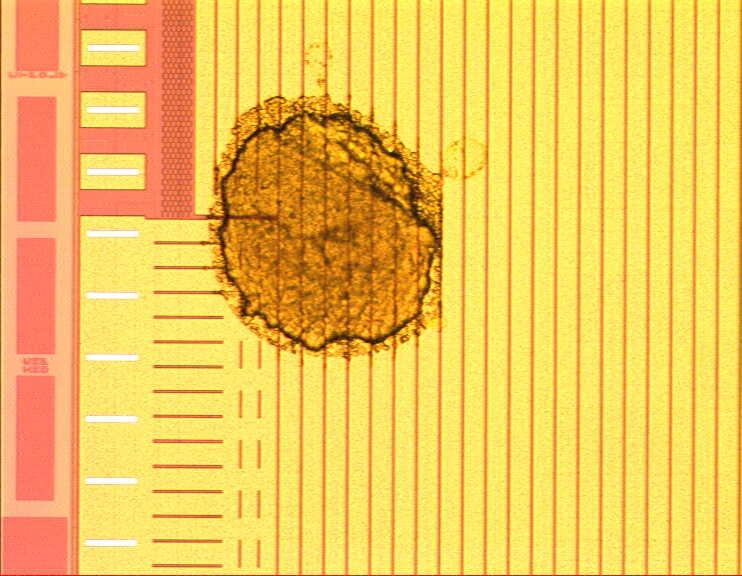PO CONTAMINATION: (202, 36, 493, 378)
